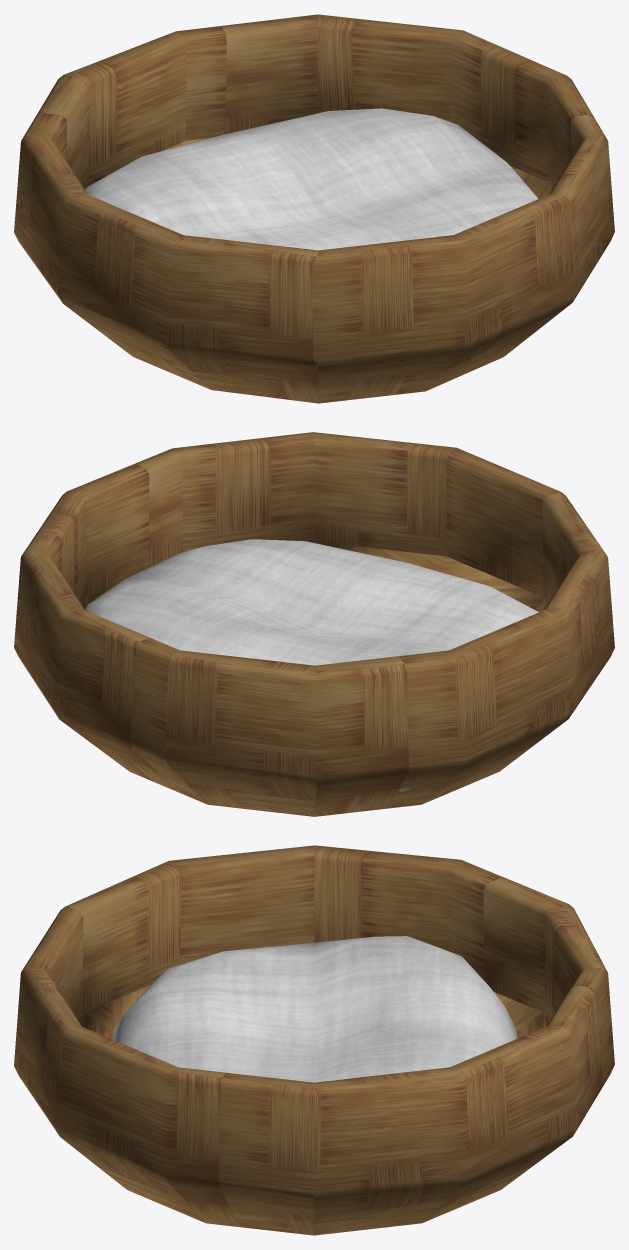
File: basket.FBX
3 views of the same model, one above another, from view 1: azimuth 30°, elevation 25°; view 2: azimuth 150°, elevation 25°; view 3: azimuth 270°, elevation 25° (orthographic).
Parts seen in each view (by area): view 1: ChamferCyl005, Cube001; view 2: ChamferCyl005, Cube001; view 3: ChamferCyl005, Cube001.
Boxes of the visible parts, box(x1,y1,x2,y2) form: ChamferCyl005: box(14, 14, 614, 403); Cube001: box(85, 108, 538, 250); ChamferCyl005: box(14, 432, 614, 816); Cube001: box(85, 539, 538, 791); ChamferCyl005: box(14, 845, 614, 1235); Cube001: box(112, 936, 517, 1082).
Size of the model in its own units: 1536 by 501 by 1531.
